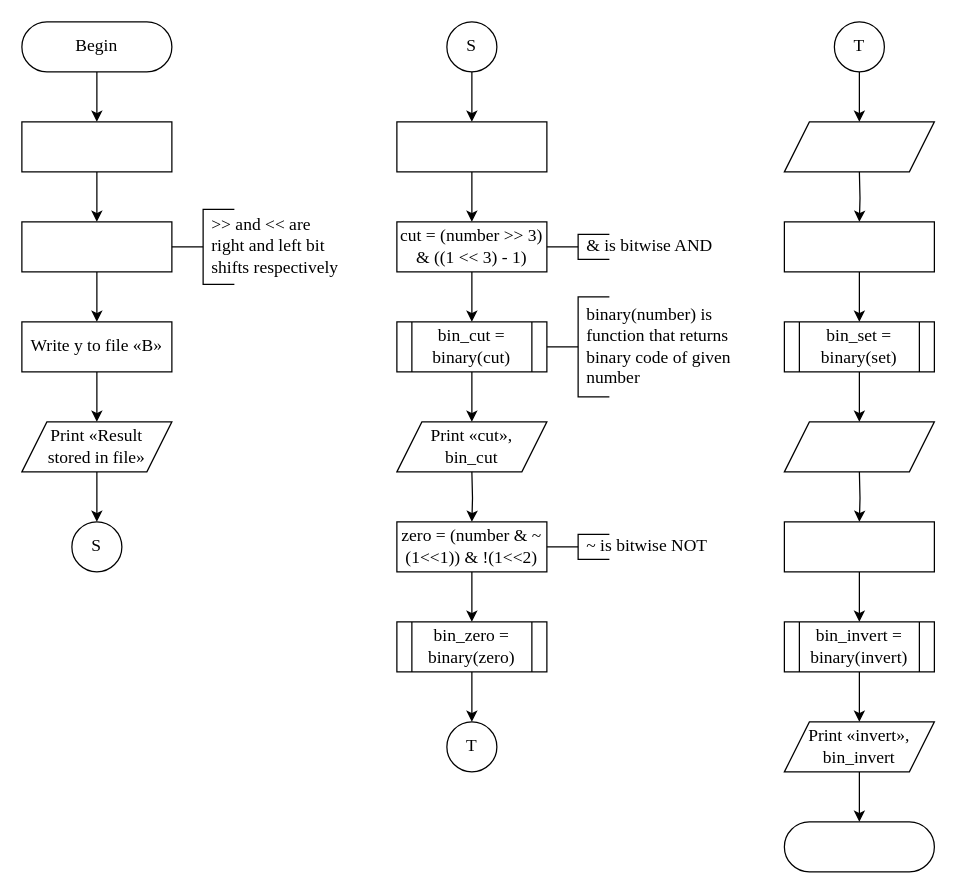
Image size: 956x894. Some labels were removed from this diagram. The centre of each missing label's shape, as x and y in pixels:
"End" belongs at point 858,846.
"invert = number ^ (1 << 5)" belongs at point 858,546.
"number = 124" belongs at point 471,146.
"Print «set», bin_set" belongs at point 858,446.
"Print «zero», bin_zero" belongs at point 858,146.
"Read a, b from file «A.txt»" belongs at point 96,146.
"set = (number & ~(1 << 1)) | (1 << 7)" belongs at point 858,246.
"y = (a + (3 · b) >> 1) << 4" belongs at point 96,246.
